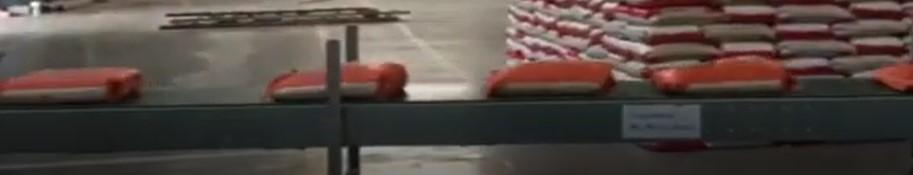rice-bag: (650, 56, 795, 94), (0, 67, 143, 103), (486, 61, 615, 96), (338, 62, 408, 99)
